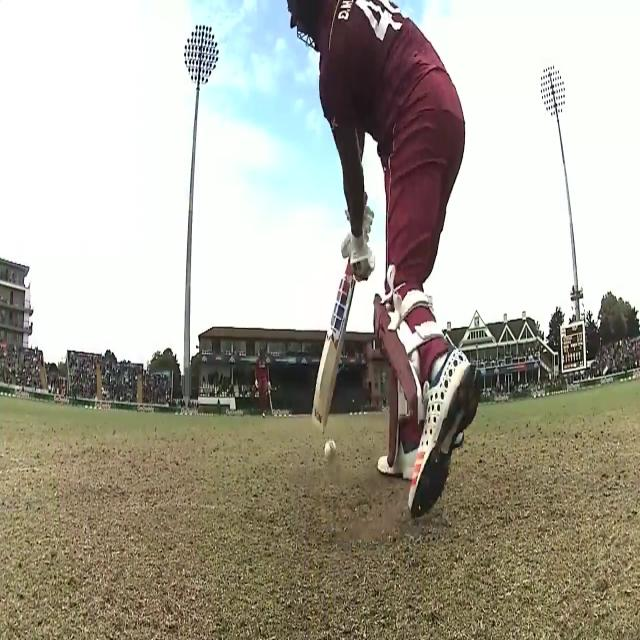ball: (321, 437, 340, 468)
